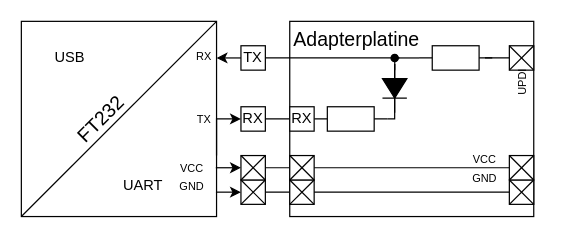
Some shapes in this 561 by 239 pixel diagram are drawn without their labels. The shapes that lost their labels are listed below. From the top down, each one's centre as x and y in pixels, then its label:
(x=455, y=57): 470R
(x=350, y=118): 1k
